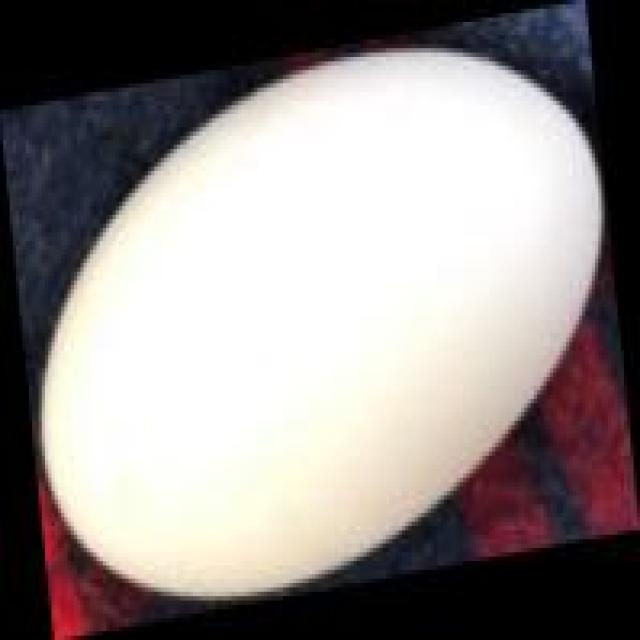Egg: (22, 39, 618, 608)
